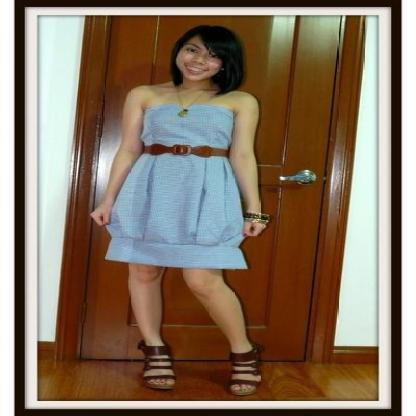dress: (105, 103, 247, 268)
shoe: (133, 339, 265, 390)
